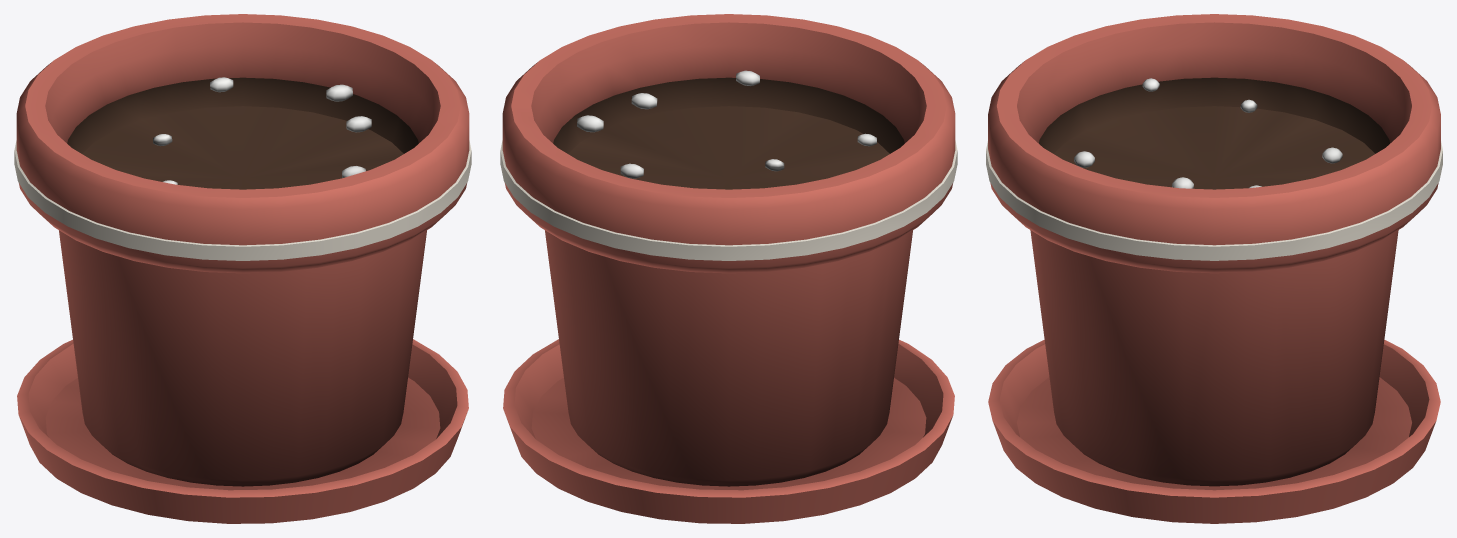
Rendered from nd_plant_pot.glb.
3 renders of one model, left to right at view 1: azimuth 30°, elevation 25°; view 2: azimuth 150°, elevation 25°; view 3: azimuth 270°, elevation 25°, orthographic.
Parts seen in each view (by area): view 1: PART; view 2: PART; view 3: PART.
Part boxes in pixels (bbox=[...]): PART: bbox=[14, 14, 471, 523]; PART: bbox=[500, 14, 957, 523]; PART: bbox=[986, 14, 1442, 523].
Bounding box in the file's own units: 0.319 × 0.256 × 0.319.
